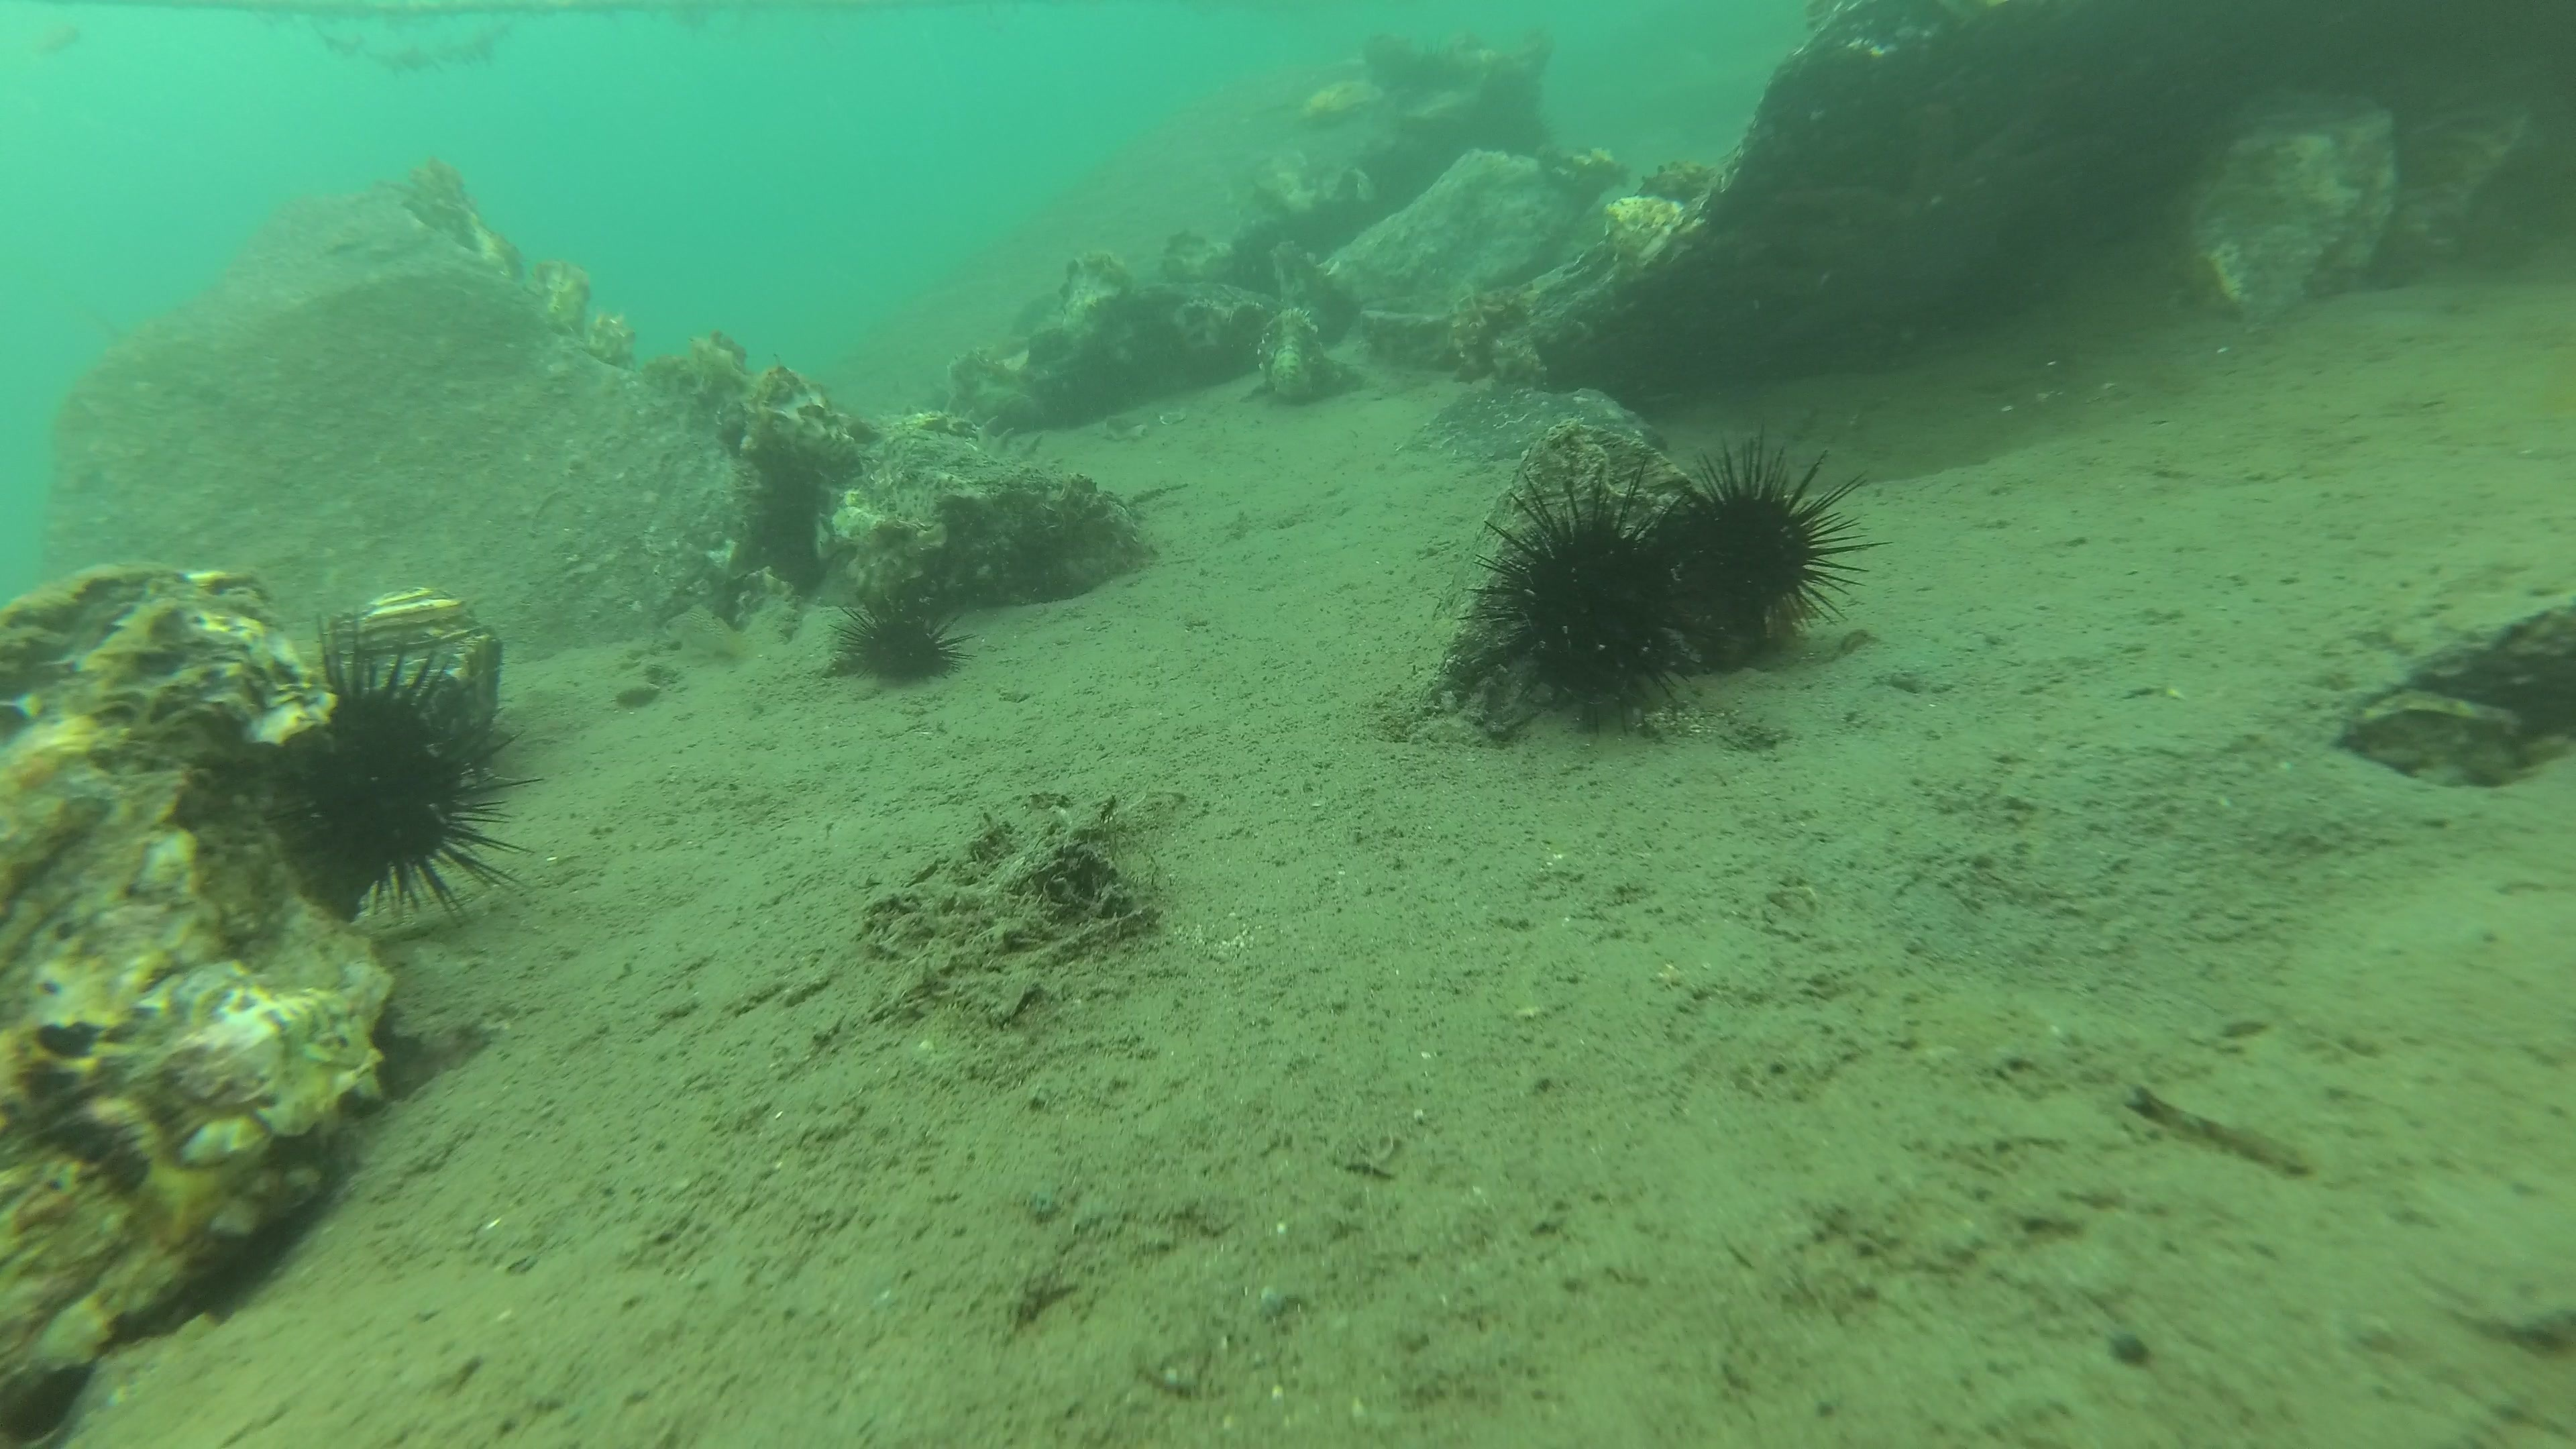echinus: (1453, 458, 1729, 747), (310, 609, 552, 932), (1668, 425, 1882, 642), (824, 594, 984, 692), (1419, 37, 1468, 88)
holothurian: (899, 396, 1065, 478)
starfish: (1760, 108, 2079, 349)
